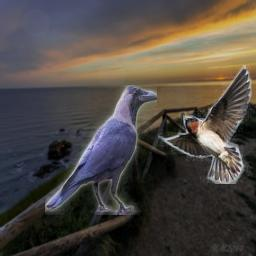Crow: (45, 85, 157, 215)
Swallow: (158, 65, 252, 184)
